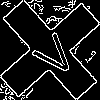V: (25, 25, 80, 81)
